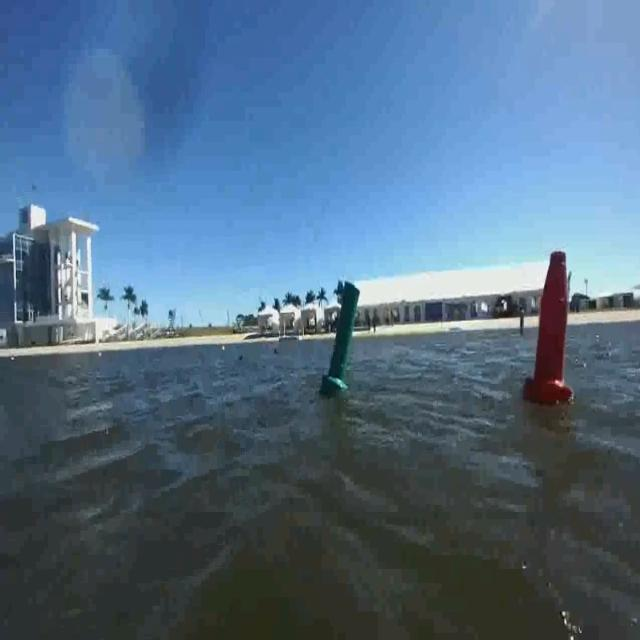green-column-buoy: (322, 281, 362, 394)
red-column-buoy: (526, 247, 577, 406)
